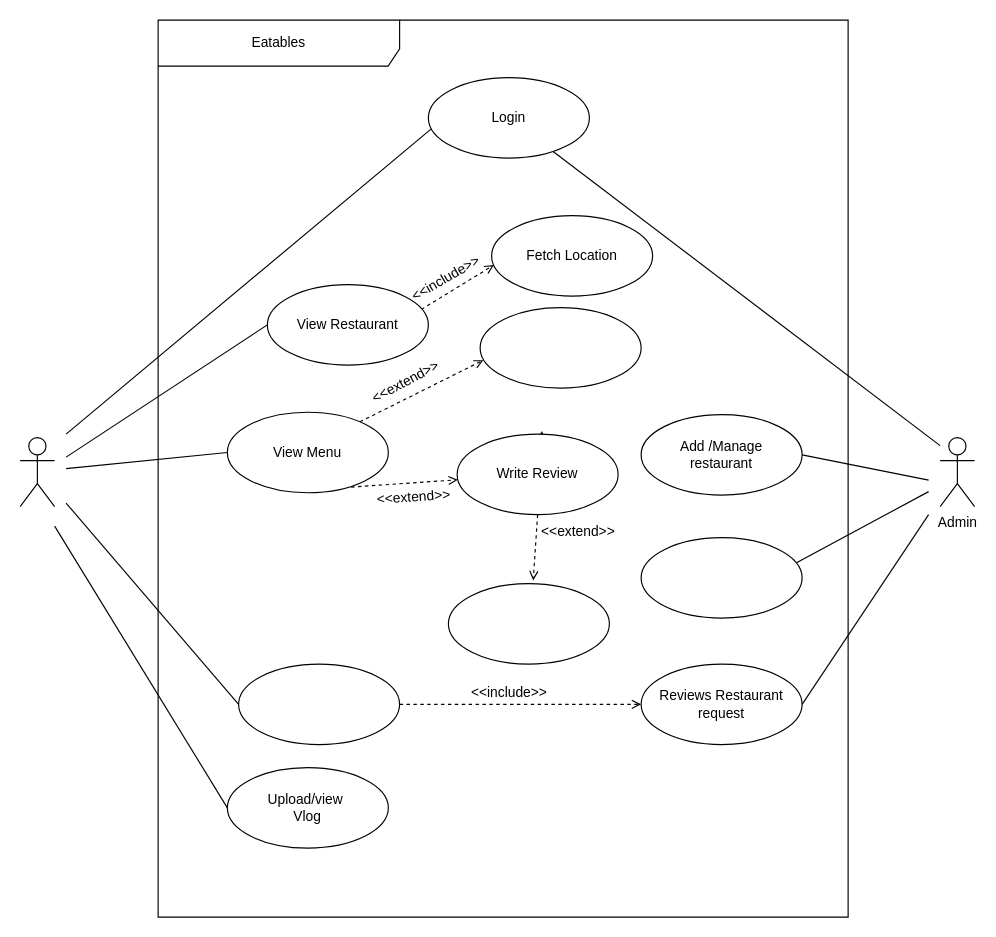
Some shapes in this 996 by 937 pixel diagram are drawn without their labels. The shapes that lost their labels are listed below. From the top down, each one's centre as x and y in pixels, then its label:
At point 560,347: "Add to Favourite".
At point 37,471: "User".
At point 721,577: "Add /Manage items".
At point 528,623: "Manage review".
At point 318,704: "Submit Restaurant request".
